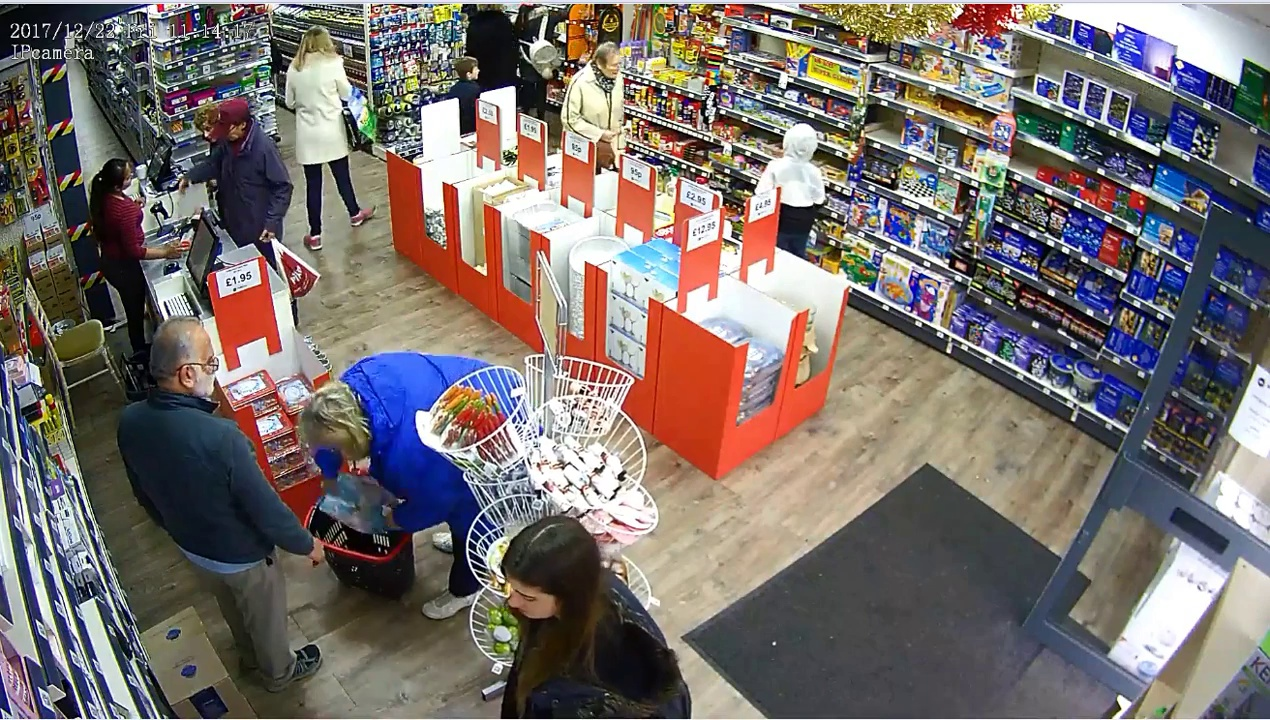face: (504, 563, 553, 627), (598, 47, 622, 80), (469, 60, 482, 81)
